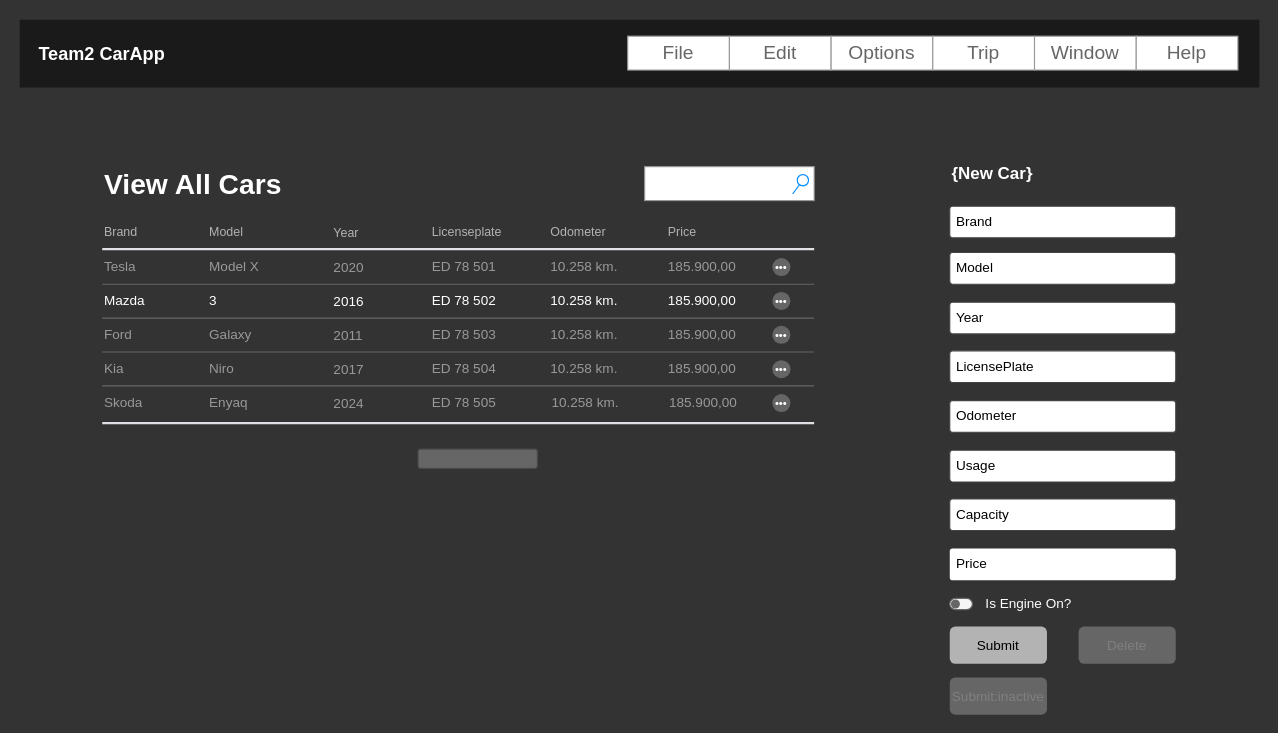
Image size: 1278x733. Some labels were removed from this diagram. The shapes that lost their labels are listed below. From the top down, each one's box as (x1, y1, x2, y2) in pixels, then its label:
(644, 166, 814, 201): Search
(417, 448, 537, 468): Indlæs flere
